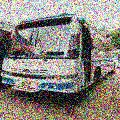bus: (1, 13, 117, 95)
